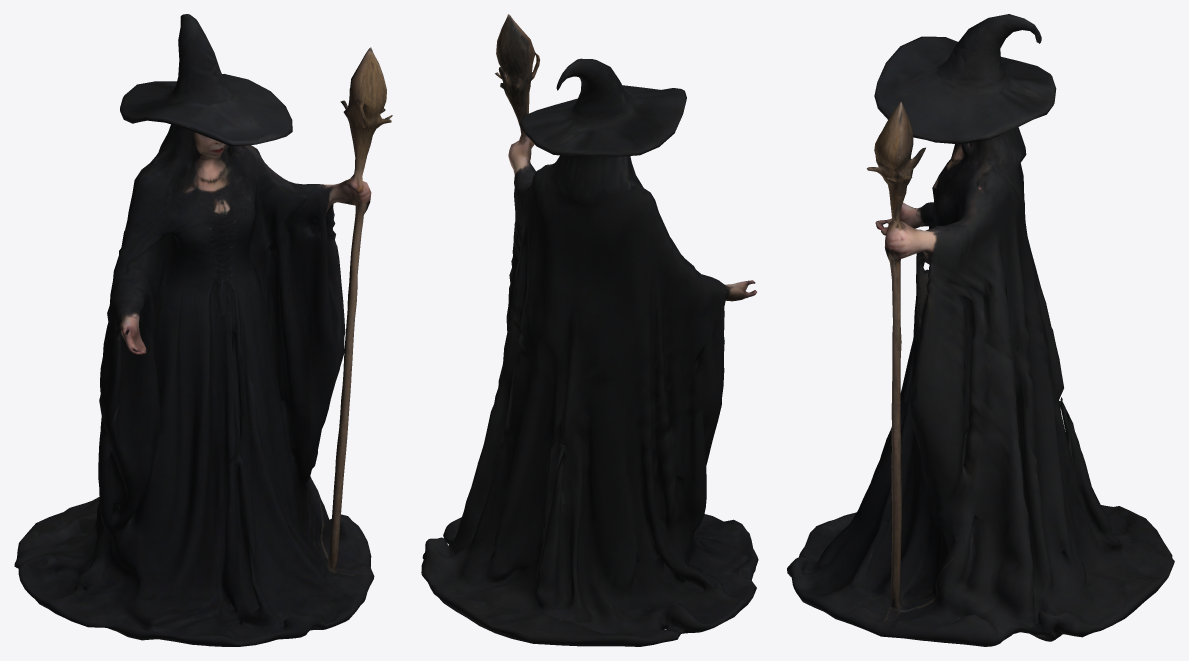
Rendered from a_dressed_witch_1127152121_refine.fbx.
3 renders of one model, left to right at view 1: azimuth 30°, elevation 25°; view 2: azimuth 150°, elevation 25°; view 3: azimuth 270°, elevation 25°, orthographic. The views are drawn at different scales.
Parts seen in each view (by area): view 1: Mesh1_Mesh1.051; view 2: Mesh1_Mesh1.051; view 3: Mesh1_Mesh1.051.
Part boxes in pixels (box(x1,y1,x2,y2)): Mesh1_Mesh1.051: box(14, 14, 392, 646); Mesh1_Mesh1.051: box(421, 14, 758, 646); Mesh1_Mesh1.051: box(787, 14, 1174, 646).
Size of the model in its own units: 117 by 199 by 124.
1 material, 1 textured.
